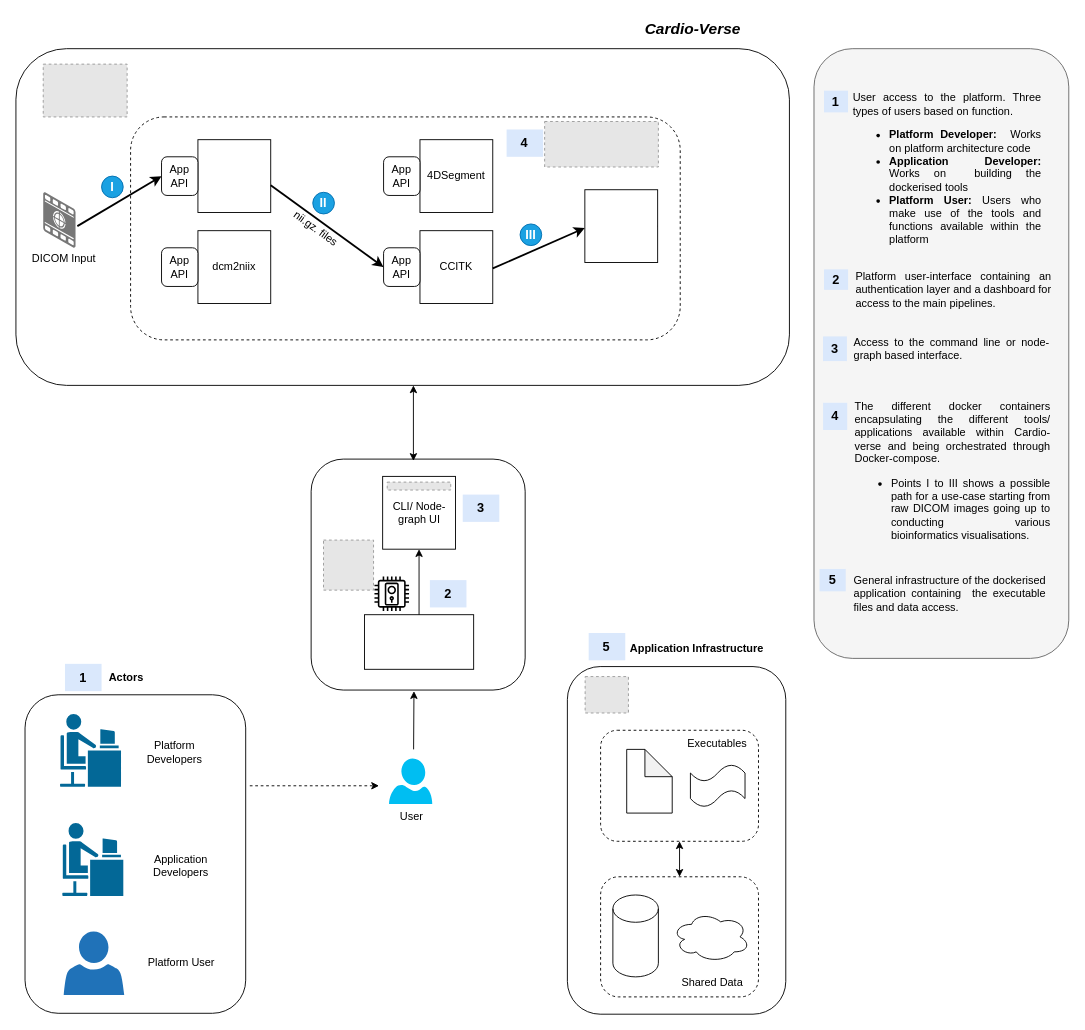
This 1085x1030 diagram has some shape labels left out. Grey dashed boxes stand in for pictures. Here are the shapes that lost their labels. From the top down, the box of each, then its label:
(197, 139, 271, 212): CardioNifty
(584, 189, 658, 263): Bioinformatics Visualisations
(364, 614, 474, 669): Authentication
(626, 748, 672, 813): Code
(690, 764, 745, 807): Model
(612, 894, 658, 977): Internal data drives
(671, 911, 750, 962): Biobank
